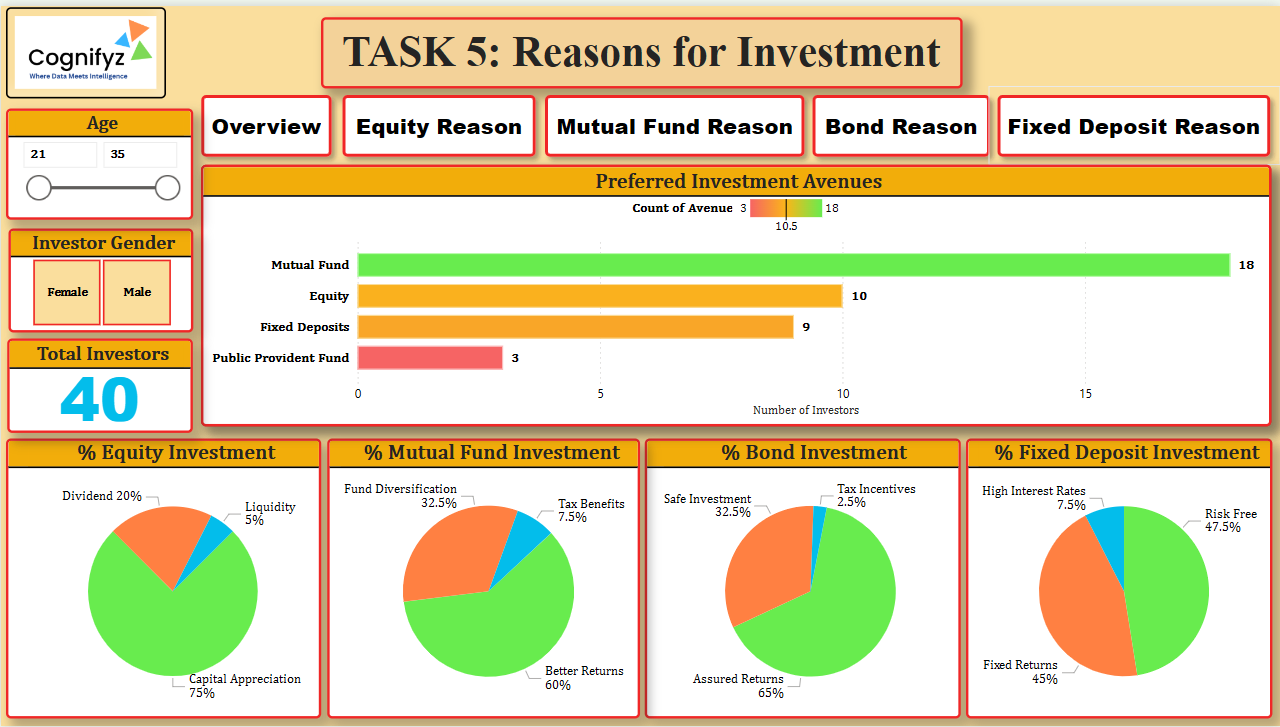

What the dashboard file says about the page in this screenshot:
{"tool":"powerbi","page":{"name":"Task 5","canvas":[1280,720],"ordinal":9},"visuals":[{"type":"image","box":[5,1.2,160,91],"z":0},{"type":"textbox","box":[319.4,11.1,641.4,71.3],"z":1000},{"type":"pieChart","title":"% Equity Investment","fields":{"Category":["Data_set 2.Reason_Equity"],"Y":["CountNonNull(Data_set 2.Reason_Equity)"]},"box":[4.8,433.1,314.9,279.9],"z":2000},{"type":"actionButton","title":"Equity","box":[333,79.6,211.1,79.6],"z":3000},{"type":"actionButton","title":"Overview","box":[191.8,79.6,148.4,79.6],"z":4000},{"type":"actionButton","title":"Mutual Fund","box":[534.5,79.6,277.5,79.6],"z":5000},{"type":"actionButton","title":"Bond","box":[802.3,79.6,195.4,79.6],"z":6000},{"type":"actionButton","title":"FD","box":[988.1,79.6,290.8,79.6],"z":7000},{"type":"pieChart","title":"% Bond Investment","fields":{"Category":["Data_set 2.Reason_Bonds"],"Y":["CountNonNull(Data_set 2.Reason_Bonds)"]},"box":[644.2,433.1,316.1,279.9],"z":8000},{"type":"pieChart","title":"% Fixed Deposit Investment","fields":{"Category":["Data_set 2.Reason_FD"],"Y":["CountNonNull(Data_set 2.Reason_FD)"]},"box":[965.2,433.1,306.4,279.9],"z":9000},{"type":"pieChart","title":"% Mutual Fund Investment","fields":{"Category":["Data_set 2.Reason_Mutual"],"Y":["CountNonNull(Data_set 2.Reason_Mutual)"]},"box":[325.7,433.1,312.5,279.9],"z":10000},{"type":"columnChart","title":"Reasons for Investing in Fixed Deposits","fields":{"Y":["CountNonNull(Data_set 2.gender)"],"Category":["Data_set 2.Reason_FD"]},"box":[200.3,159.3,1070.1,261.8],"z":11000},{"type":"slicer","title":"Investor Gender","fields":{"Values":["Data_set 2.gender"]},"box":[7.2,222,184.6,103.8],"z":15000},{"type":"card","title":"Total Investors","fields":{"Values":["CountNonNull(Data_set 2.gender)"]},"box":[6,333,185.8,94.1],"z":16000},{"type":"slicer","title":"Age","fields":{"Values":["Data_set 2.age"]},"box":[4.8,102.5,187,111],"z":17000},{"type":"clusteredBarChart","title":"Preferred Investment Avenues","fields":{"Y":["CountNonNull(Data_set 2.gender)"],"Category":["Data_set 2.Avenue"]},"box":[200.3,159.3,1070.1,261.8],"z":18000}]}

Visuals, with their boxes in screenshot pixels (x1, y1, x2, y2), scaled from the page's 1280x720 canvas onto the 1280x727 screenshot:
image: <bbox>5, 1, 165, 93</bbox>
textbox: <bbox>319, 11, 961, 83</bbox>
"% Equity Investment" pieChart: <bbox>5, 437, 320, 720</bbox>
"Equity" actionButton: <bbox>333, 80, 544, 161</bbox>
"Overview" actionButton: <bbox>192, 80, 340, 161</bbox>
"Mutual Fund" actionButton: <bbox>534, 80, 812, 161</bbox>
"Bond" actionButton: <bbox>802, 80, 998, 161</bbox>
"FD" actionButton: <bbox>988, 80, 1279, 161</bbox>
"% Bond Investment" pieChart: <bbox>644, 437, 960, 720</bbox>
"% Fixed Deposit Investment" pieChart: <bbox>965, 437, 1272, 720</bbox>
"% Mutual Fund Investment" pieChart: <bbox>326, 437, 638, 720</bbox>
"Reasons for Investing in Fixed Deposits" columnChart: <bbox>200, 161, 1270, 425</bbox>
"Investor Gender" slicer: <bbox>7, 224, 192, 329</bbox>
"Total Investors" card: <bbox>6, 336, 192, 431</bbox>
"Age" slicer: <bbox>5, 103, 192, 216</bbox>
"Preferred Investment Avenues" clusteredBarChart: <bbox>200, 161, 1270, 425</bbox>
